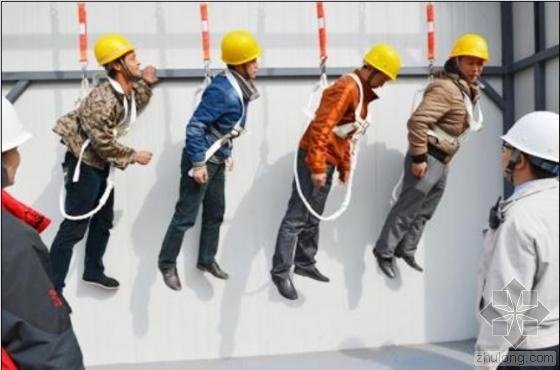white: (496, 109, 560, 188), (2, 96, 29, 192)
yellow: (90, 28, 140, 85), (216, 31, 261, 84), (446, 31, 490, 85), (358, 44, 399, 92)
